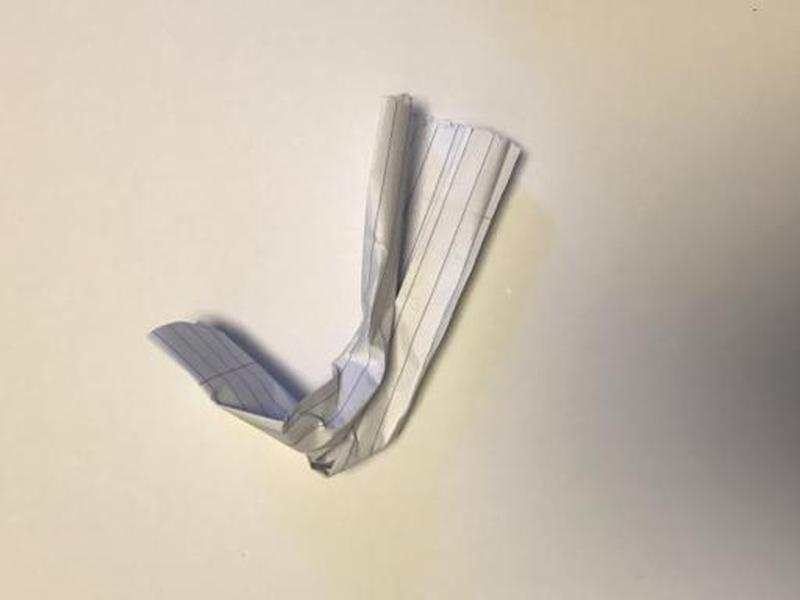paper: (144, 88, 525, 480)
